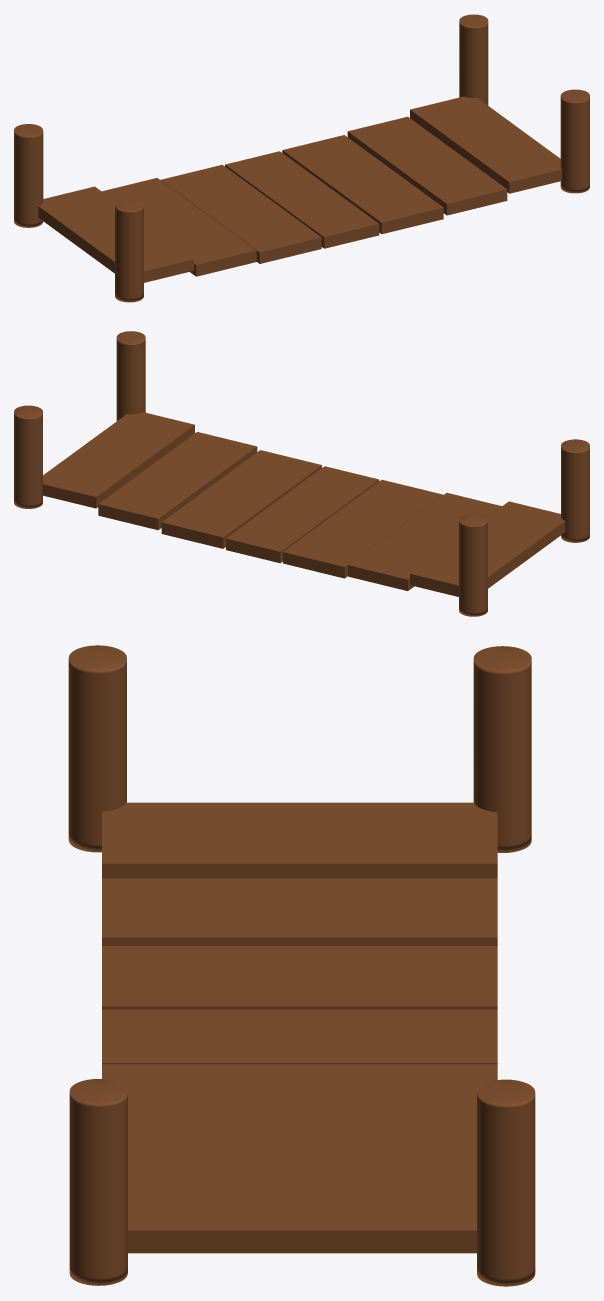
The model's file is Bridge.fbx.
3 renders of one model, top to bottom at view 1: azimuth 30°, elevation 25°; view 2: azimuth 150°, elevation 25°; view 3: azimuth 270°, elevation 25°, orthographic. The views are drawn at different scales.
Visible parts, largest first — view 1: Cube; view 2: Cube; view 3: Cube.
Boxes of the visible parts, bbox=[...] form: Cube: bbox=[14, 14, 589, 302]; Cube: bbox=[14, 331, 589, 616]; Cube: bbox=[68, 645, 535, 1286].
Size of the model in its own units: 1723 by 323 by 740.
